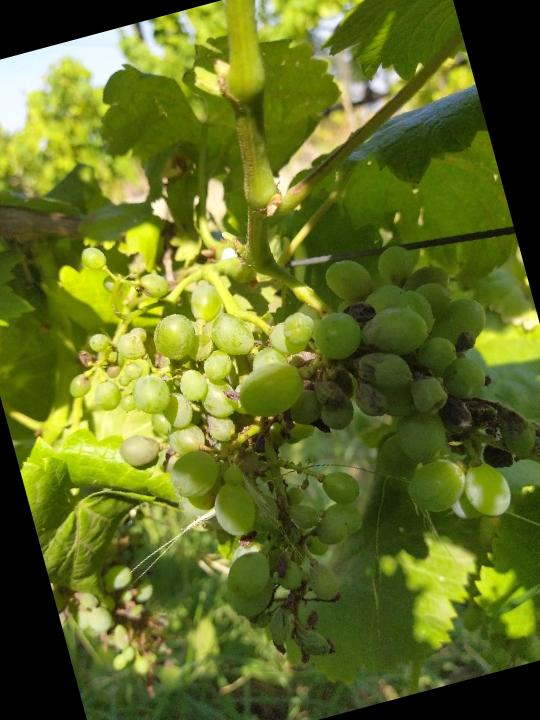grape: (34, 150, 540, 720)
